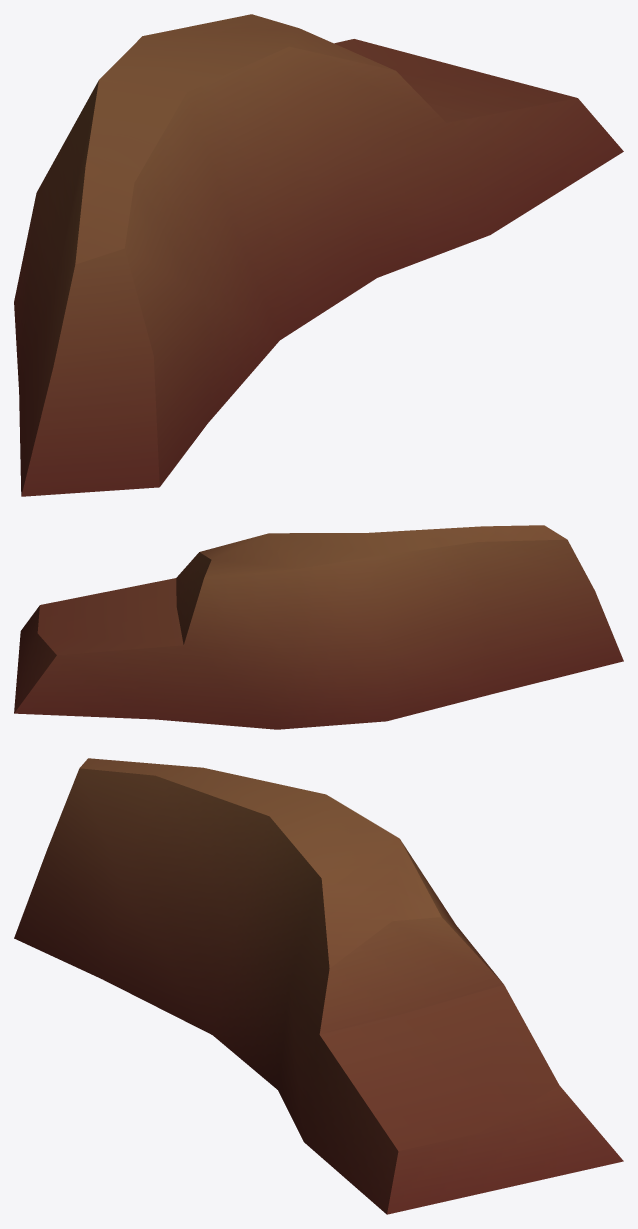
File: Mountain_medium.015.fbx
The picture shows the model from 3 angles, top to bottom: view 1: azimuth 30°, elevation 25°; view 2: azimuth 150°, elevation 25°; view 3: azimuth 270°, elevation 25°; orthographic projection. The views are drawn at different scales.
Visible parts, largest first — view 1: Mountain_medium.015; view 2: Mountain_medium.015; view 3: Mountain_medium.015.
Boxes of the visible parts, box(x1,y1,x2,y2) form: Mountain_medium.015: box(14, 14, 623, 496); Mountain_medium.015: box(14, 525, 623, 729); Mountain_medium.015: box(14, 758, 623, 1214).
Size of the model in its own units: 54.58 by 15.41 by 43.52.
